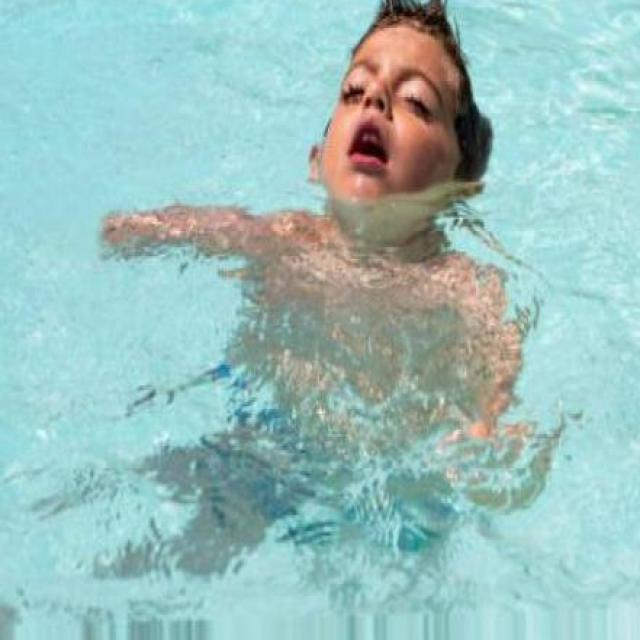Drowning: (105, 0, 559, 519)
